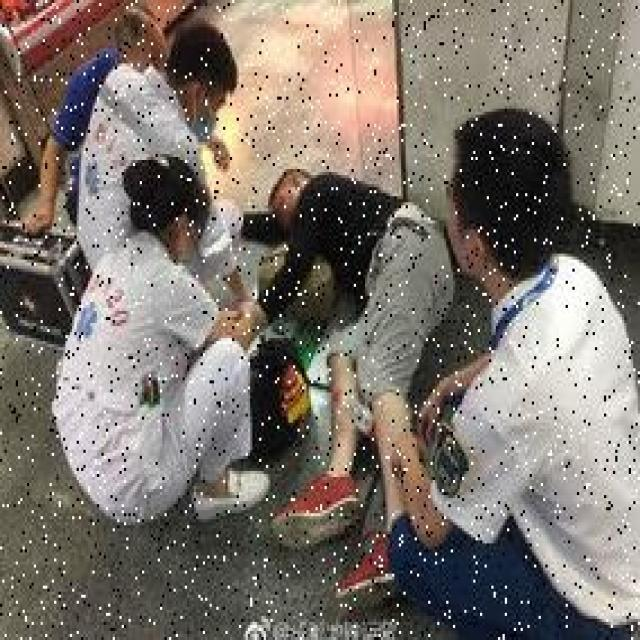fall: (264, 170, 414, 558)
